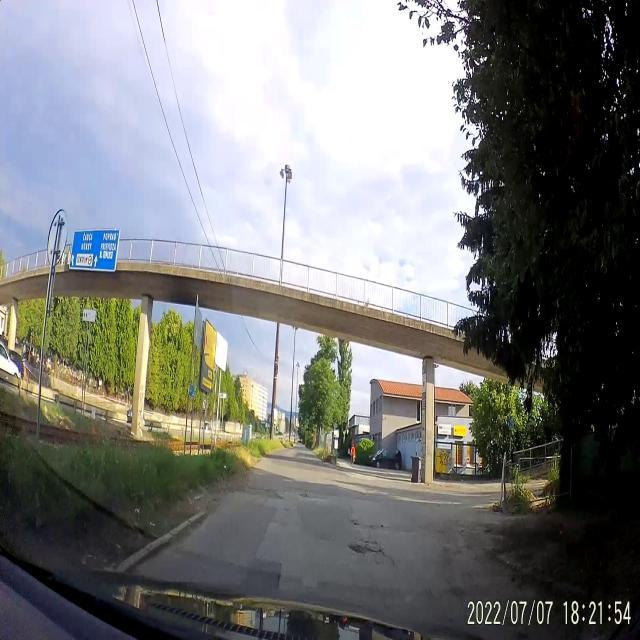Pothole: (346, 533, 388, 560), (350, 513, 388, 532), (298, 486, 327, 502)
